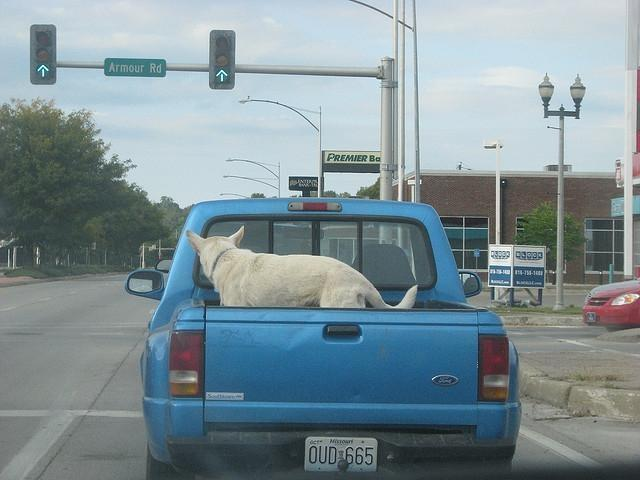car: (582, 272, 640, 331), (154, 259, 172, 280)
truck: (124, 197, 522, 473)
